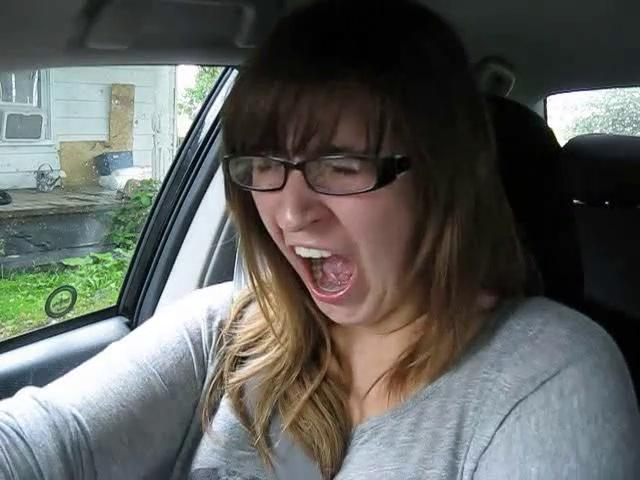close_eyeL: (235, 141, 299, 190)
close_eyeR: (305, 148, 384, 197)
yawn: (278, 238, 373, 309)
